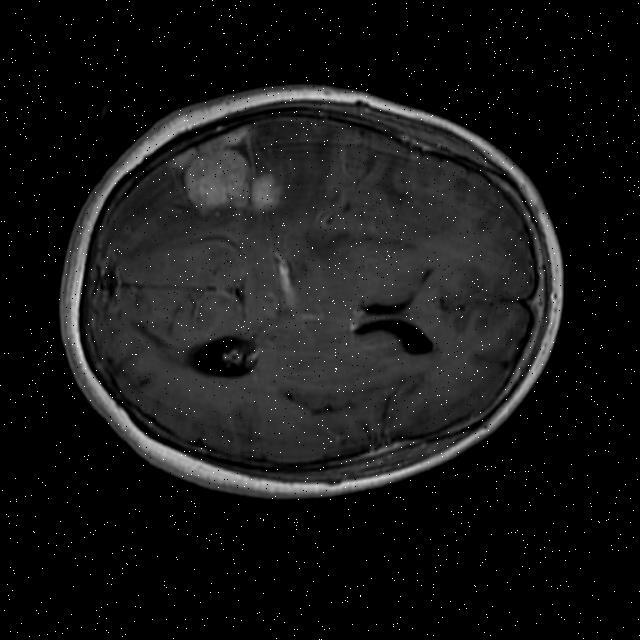Meningioma: (163, 121, 287, 222)
